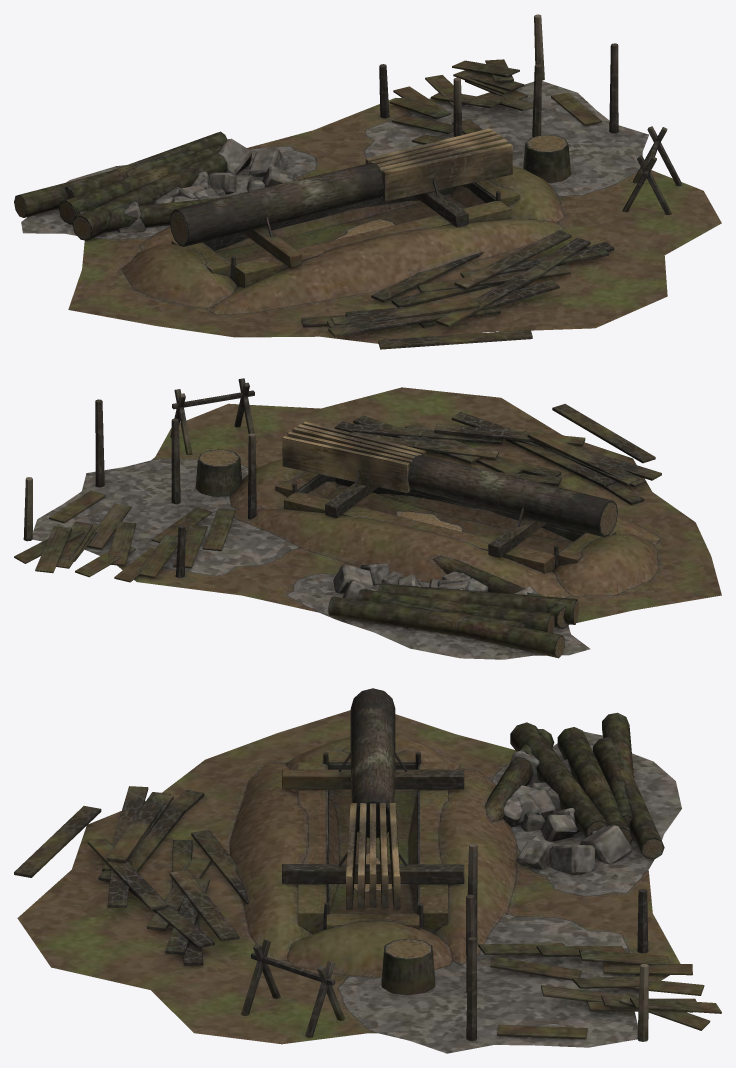
The model's file is lumber_camp_ruin.glb.
3 views of the same model, one above another, from view 1: azimuth 30°, elevation 25°; view 2: azimuth 150°, elevation 25°; view 3: azimuth 270°, elevation 25° (orthographic). The views are drawn at different scales.
Visible parts, largest first — view 1: lumber_camp_ruin_LOD0; view 2: lumber_camp_ruin_LOD0; view 3: lumber_camp_ruin_LOD0.
Boxes of the visible parts, <box> form: lumber_camp_ruin_LOD0: <box>14,14,721,349</box>; lumber_camp_ruin_LOD0: <box>14,378,721,659</box>; lumber_camp_ruin_LOD0: <box>14,688,721,1053</box>.
Size of what is drawn, in the model's own units: 11.09 by 1.57 by 9.51.
Materials: 1 (1 with a texture image).
